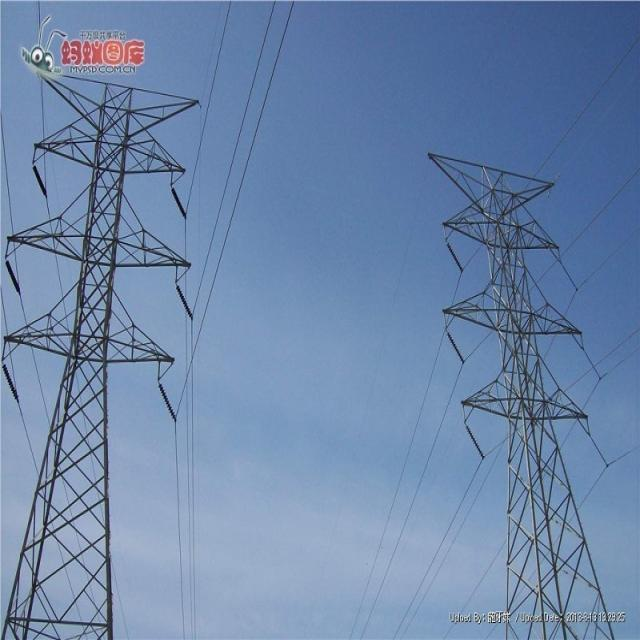non-critical vegetation: (2, 62, 208, 636), (424, 139, 619, 636)
